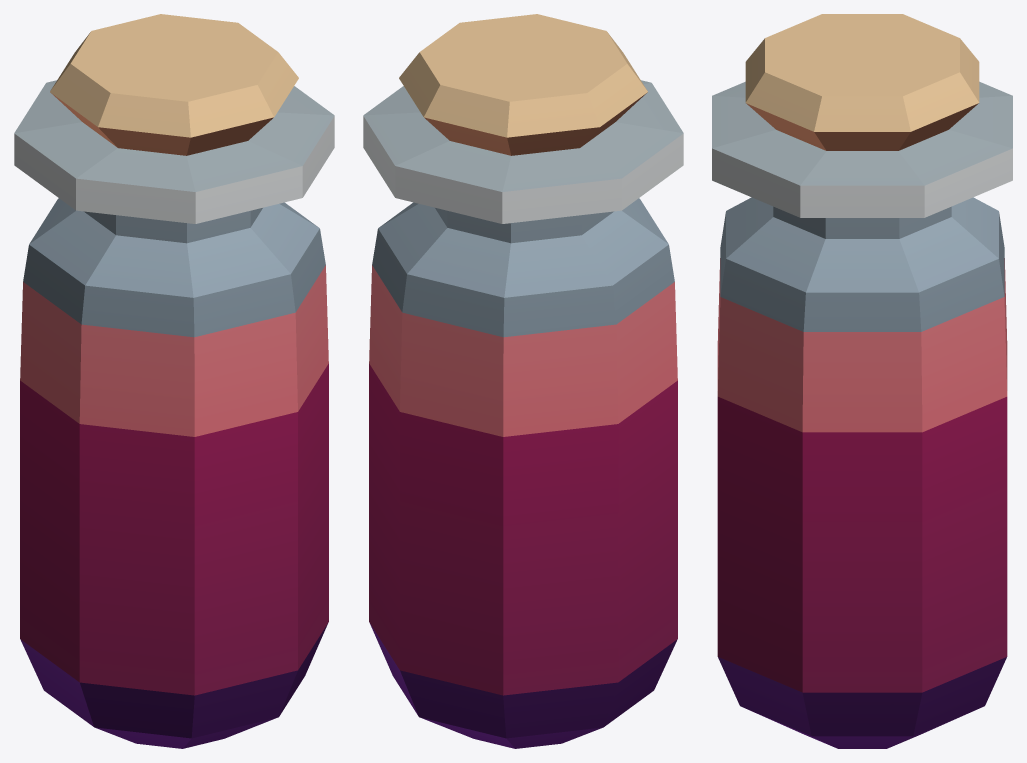
Rendered from source.glb.
3 renders of one model, left to right at view 1: azimuth 30°, elevation 25°; view 2: azimuth 150°, elevation 25°; view 3: azimuth 270°, elevation 25°, orthographic.
Parts seen in each view (by area): view 1: model; view 2: model; view 3: model.
Part boxes in pixels (x1,y1,x2,y2): model: [14, 14, 334, 748]; model: [363, 14, 683, 748]; model: [712, 14, 1012, 748].
Size of the model in its own units: 0.22 by 0.54 by 0.22.
Materials: 1 (1 with a texture image).
